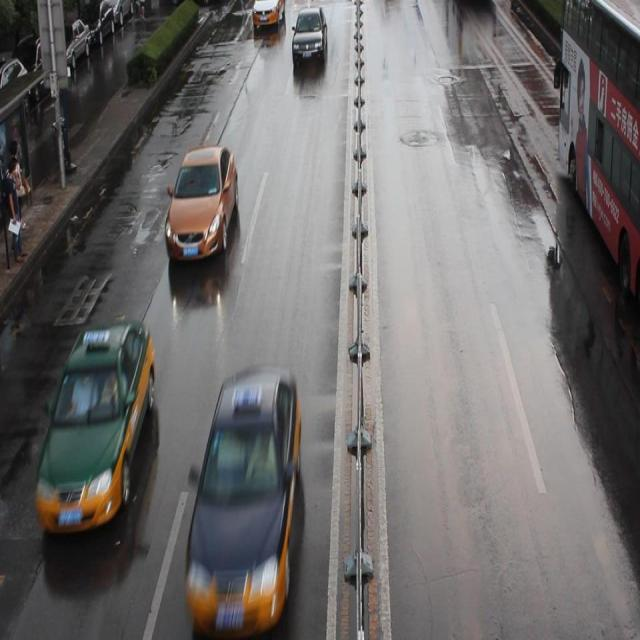car: (181, 365, 301, 613), (35, 319, 156, 536), (165, 141, 238, 260), (291, 8, 327, 64), (250, 1, 284, 29)
van: (556, 1, 640, 308), (452, 1, 492, 6)
